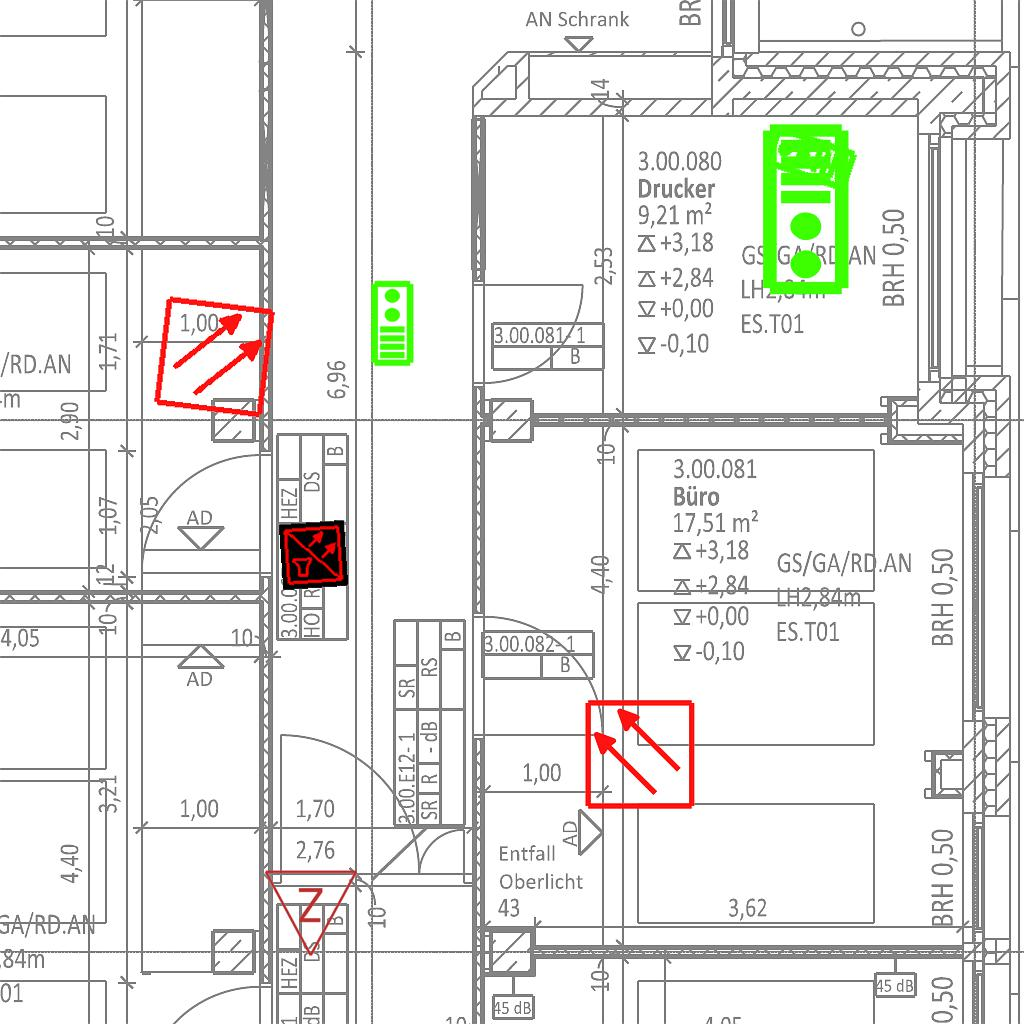Gegensprechanlage_mit_Video: (760, 122, 855, 298), (761, 122, 860, 196), (368, 279, 415, 367)
OKW_Multisensormelder_(Kombination_optischer_Rauch-Kahlenmonoxid_Waerme-Melder): (278, 519, 350, 591)
RMO_Rauchmelder_optischer: (151, 293, 278, 420), (583, 698, 696, 811)
Zimmersignalleuchte: (263, 863, 361, 963)
